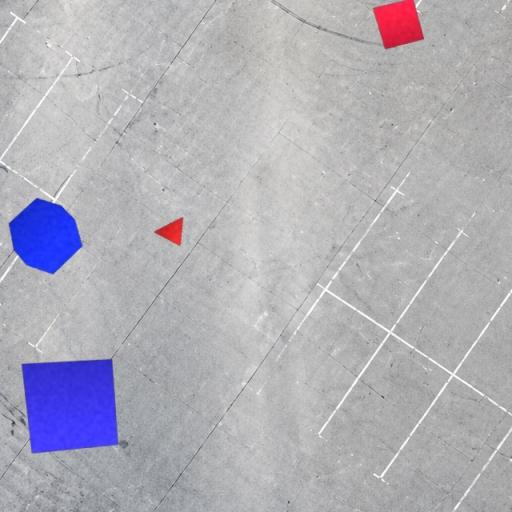BLUE_SQUARE: (21, 358, 118, 454)
RED_SQUARE: (372, 0, 425, 50)
